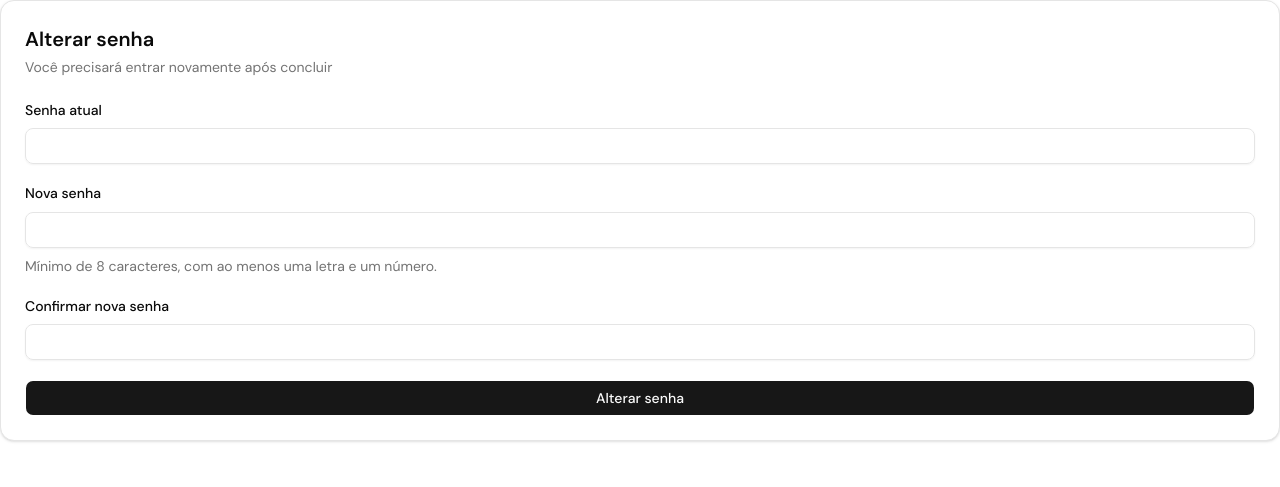
Test: TrocarSenhaForm › validação client-side (Zod) › rejeita quando a confirmação não coincide com a nova senha
The width and height of the screenshot is (1280, 487).
Type "senhaAtual123" into the password field labelled "Senha atual" at (640, 146), box left=25, top=128, right=1255, bottom=164
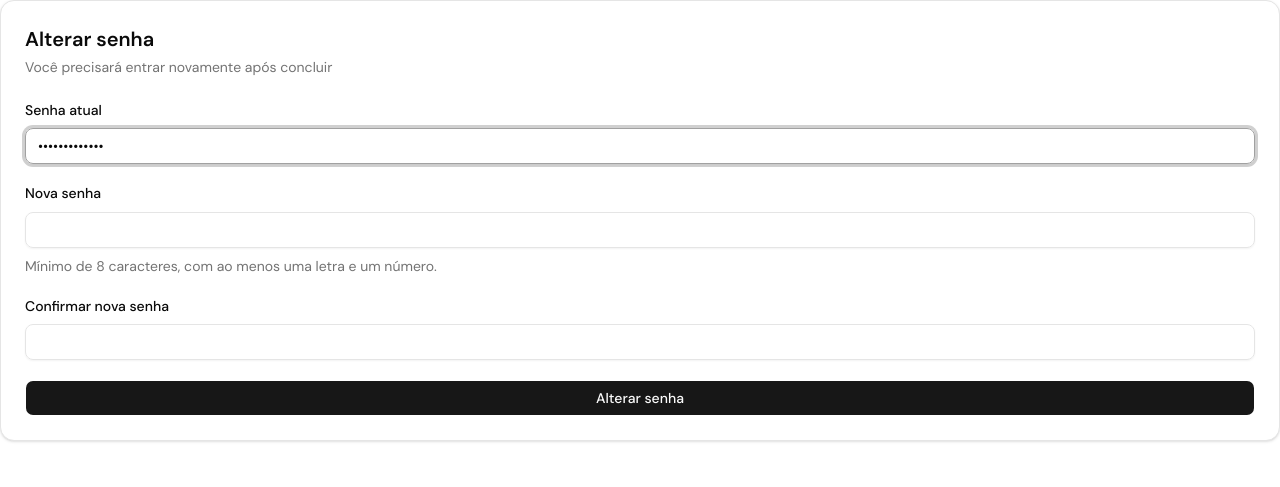
Type "novaSenha123" into the password field labelled "Nova senha" at (640, 230), box left=25, top=212, right=1255, bottom=248
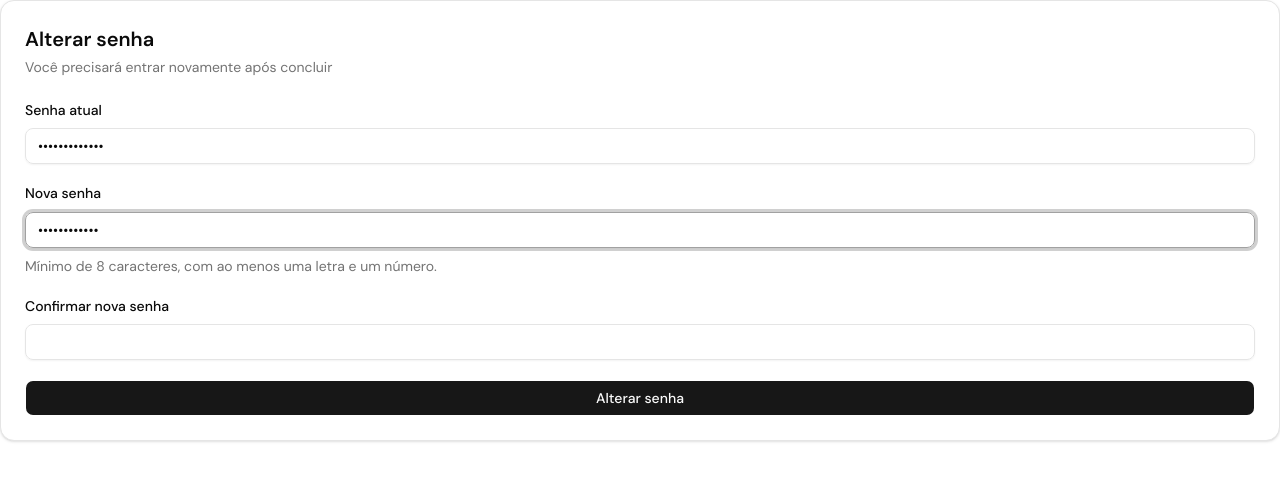
Type "outraSenha123" into the password field labelled "Confirmar nova senha" at (640, 342), box left=25, top=324, right=1255, bottom=360
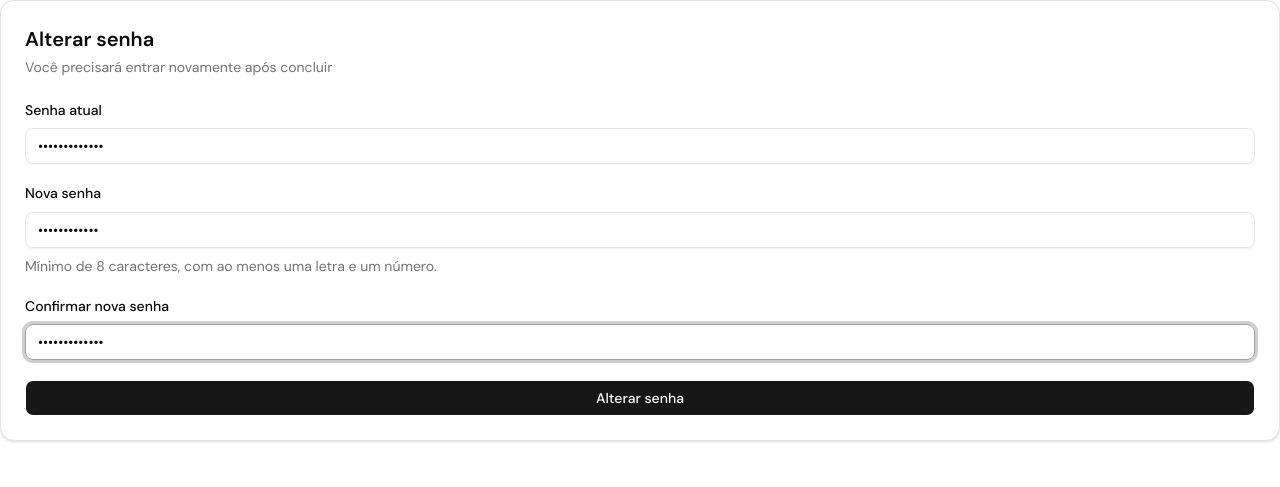
Click the button "Alterar senha" at (640, 398), box left=25, top=380, right=1255, bottom=416
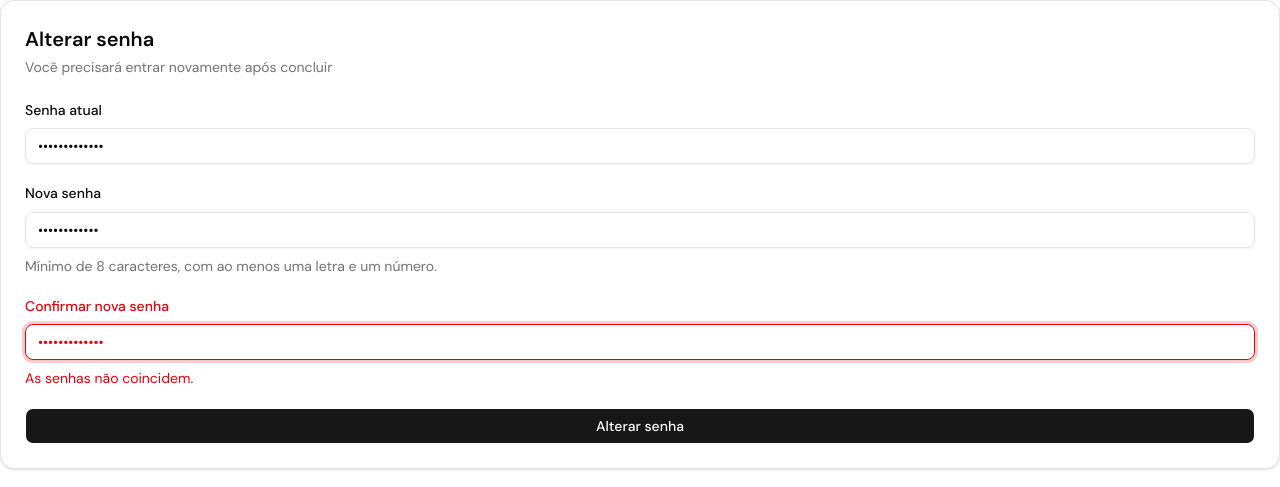
Check: the text "As senhas não coincidem." is shown, box left=25, top=369, right=193, bottom=387
